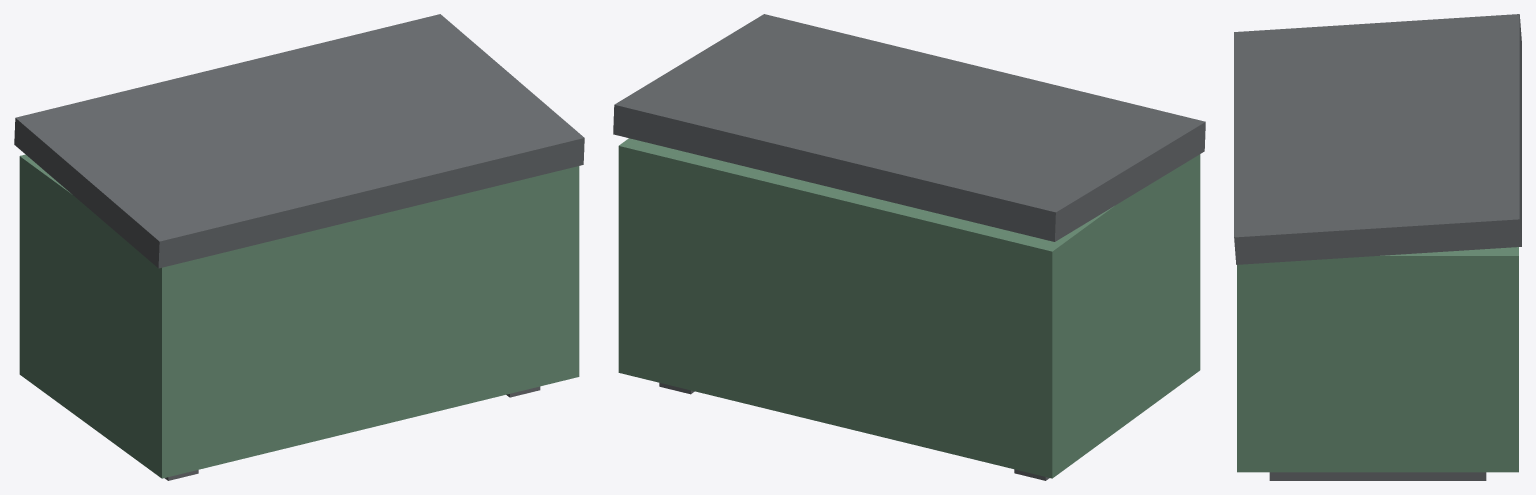
File: Dumpster.glb
3 views of the same model, side by side, from view 1: azimuth 30°, elevation 25°; view 2: azimuth 150°, elevation 25°; view 3: azimuth 270°, elevation 25° (orthographic). The views are drawn at different scales.
Parts seen in each view (by area): view 1: Dumpster; view 2: Dumpster; view 3: Dumpster.
Boxes of the visible parts, x1,y1,x2,y2 form: Dumpster: (14,14,584,480); Dumpster: (613,14,1205,480); Dumpster: (1234,14,1521,480).
Bounding box in the file's own units: 2.24 × 1.4 × 1.33.
